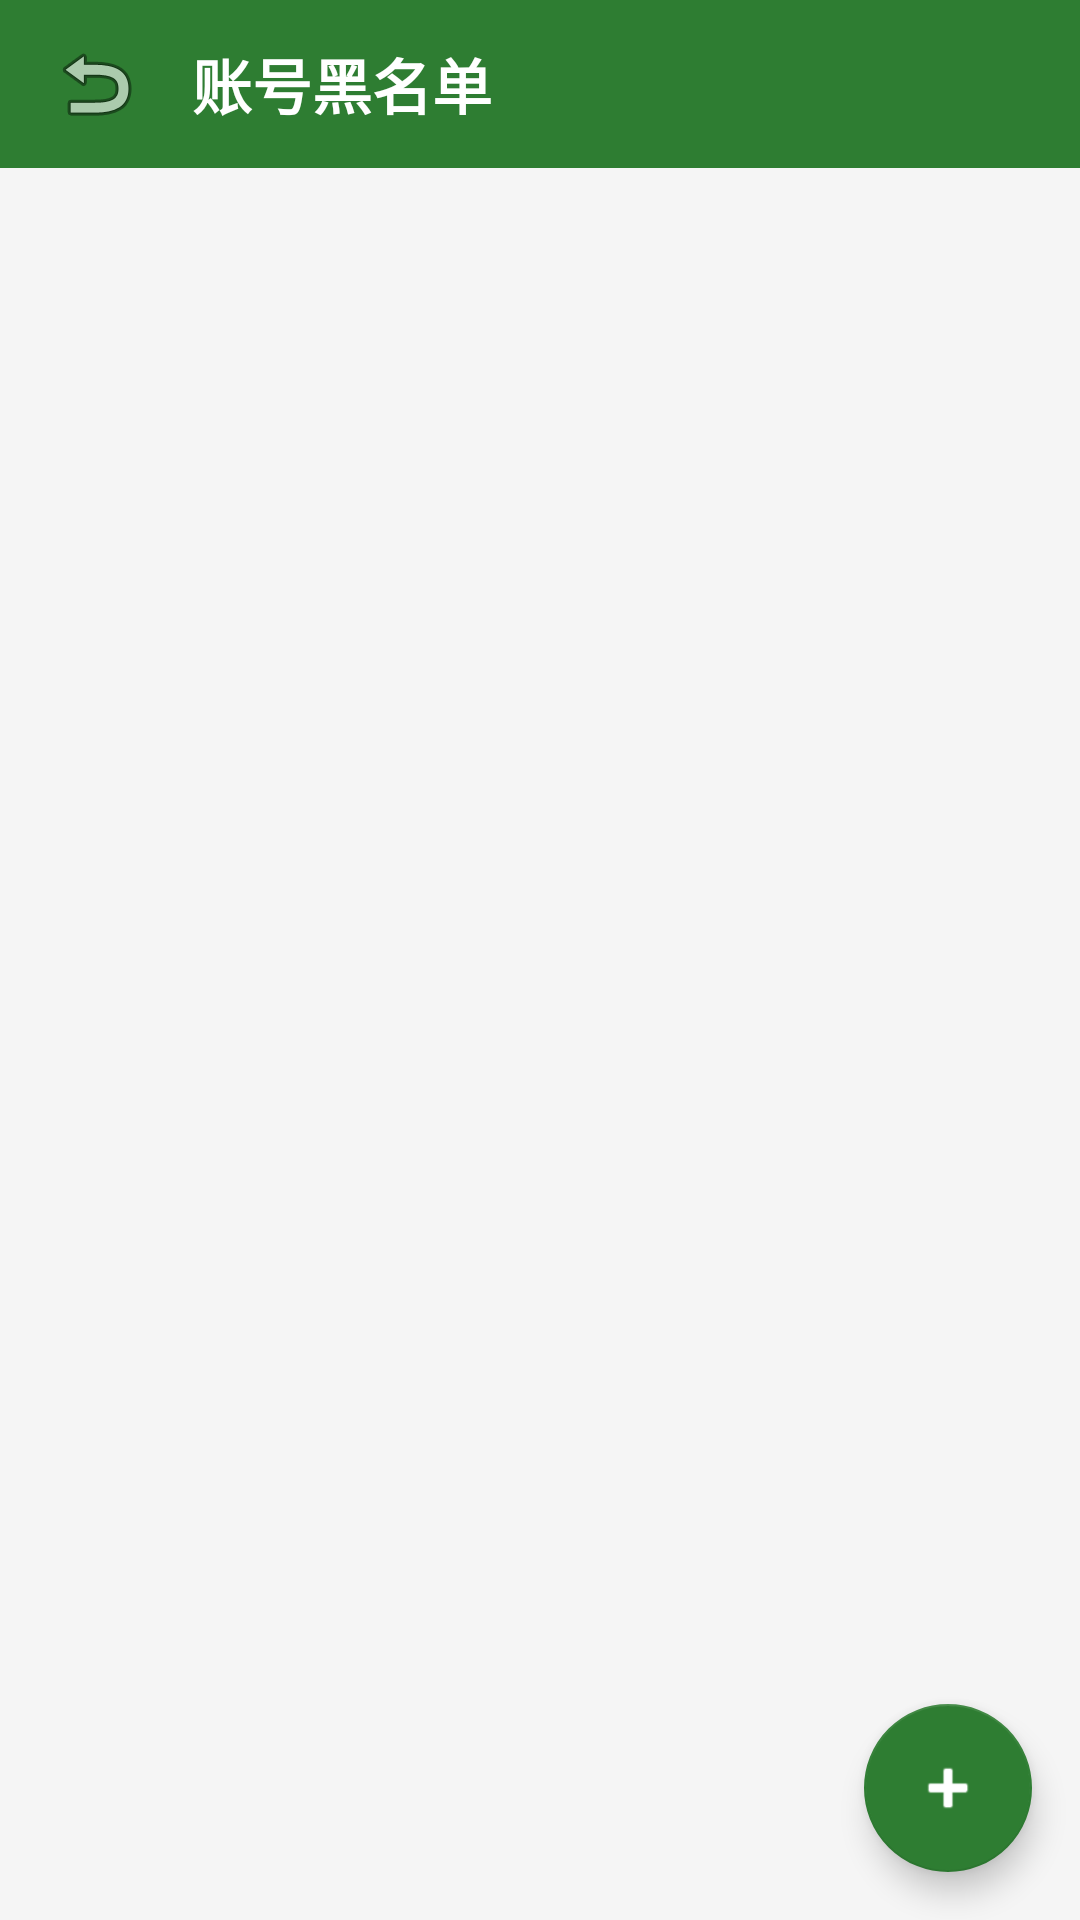

Point at icon controls on the screen. Image size 1080px×1920px, points as [x,y].
添加账号: [948,1788]
返回: [97,85]
